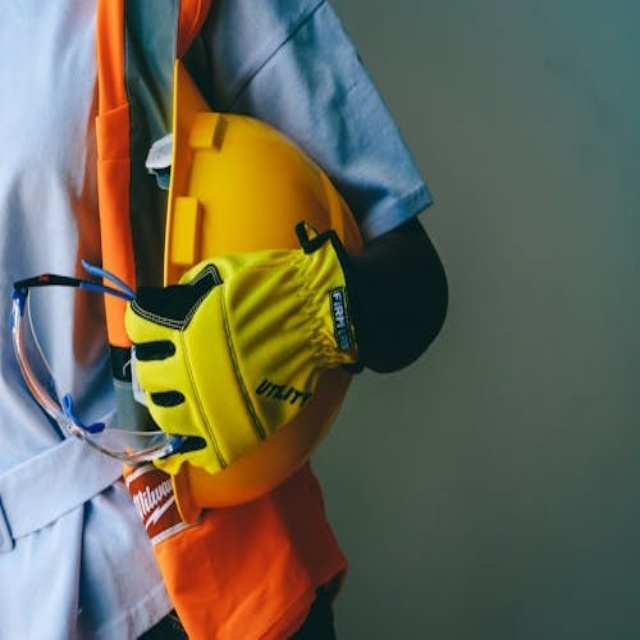Guantes: (125, 205, 353, 483)
